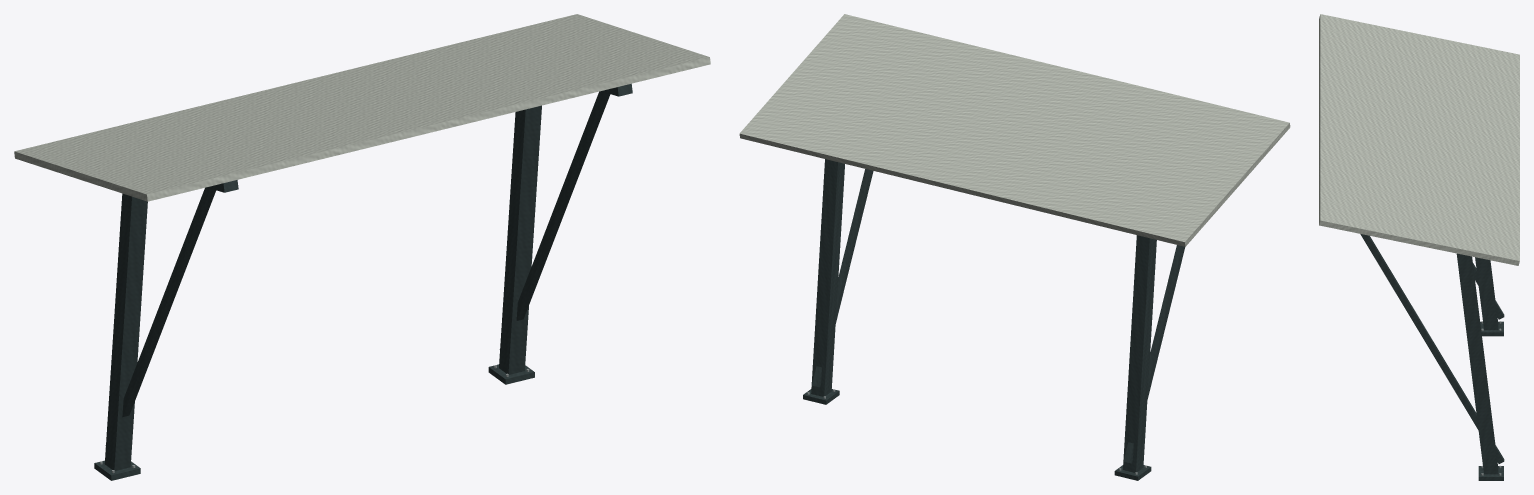
3 renders of one model, left to right at view 1: azimuth 30°, elevation 25°; view 2: azimuth 150°, elevation 25°; view 3: azimuth 270°, elevation 25°, orthographic. The views are drawn at different scales.
Parts seen in each view (by area): view 1: B020-05_roof_panel, B020-05_frame_iron, B020-05_base_iron; view 2: B020-05_roof_panel, B020-05_frame_iron, B020-05_base_iron; view 3: B020-05_roof_panel, B020-05_frame_iron, B020-05_base_iron.
Boxes of the visible parts, left/top/right/bottom form: B020-05_roof_panel: left=14, top=14, right=710, bottom=201; B020-05_frame_iron: left=104, top=83, right=632, bottom=470; B020-05_base_iron: left=94, top=364, right=534, bottom=480; B020-05_roof_panel: left=739, top=14, right=1290, bottom=246; B020-05_frame_iron: left=811, top=159, right=1185, bottom=472; B020-05_base_iron: left=803, top=389, right=1151, bottom=480; B020-05_roof_panel: left=1319, top=14, right=1519, bottom=265; B020-05_frame_iron: left=1360, top=234, right=1504, bottom=474; B020-05_base_iron: left=1478, top=321, right=1503, bottom=480.
Bounding box in the file's own units: 4.8 × 3.1 × 1.97.
Materials: 3 (3 with a texture image).
